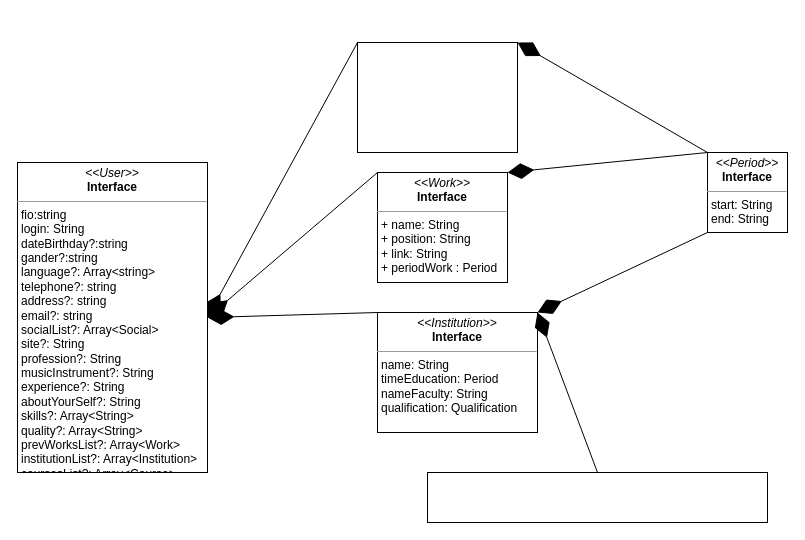
The diagram is 805 pixels wide and 540 high, and some of its shapes have lost their labels. Here are the shapes that lost their labels. From the top down, the box of each, then its label:
(356, 42, 518, 152): <<Course>> Interface name : String timeEducation: Period nameSchool : String
(426, 472, 768, 522): type Qualification = 'Бакалавр' | 'Магистр' | 'Специалитет'
